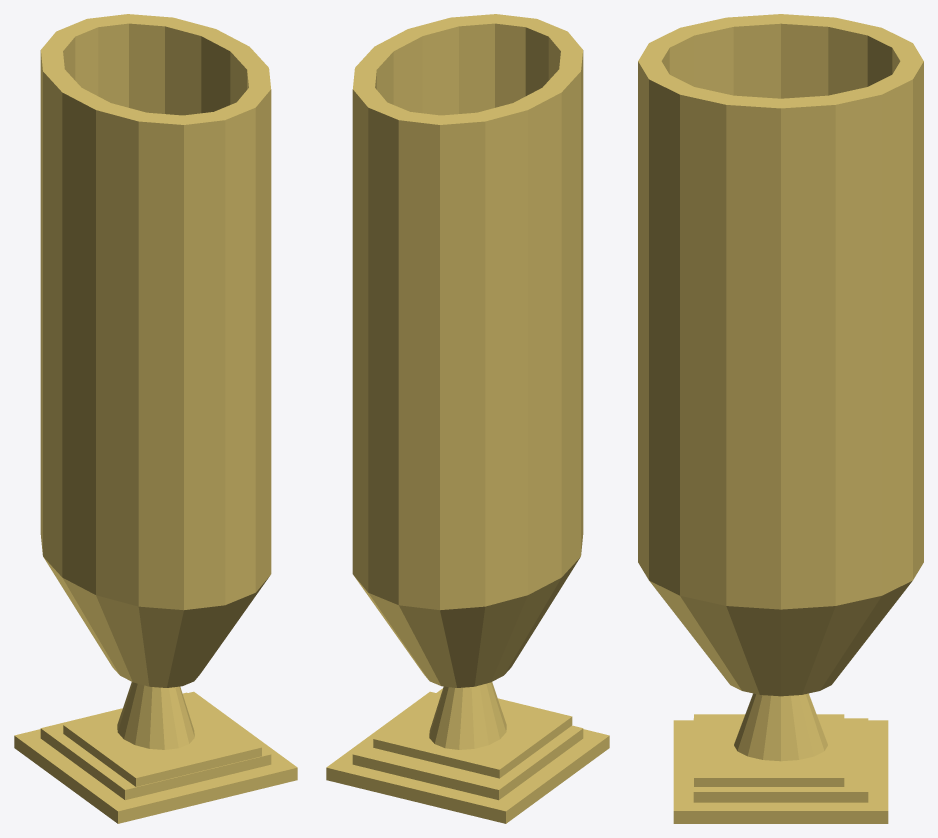
The model's file is Final_VaseToUnity.fbx.
3 views of the same model, side by side, from view 1: azimuth 30°, elevation 25°; view 2: azimuth 150°, elevation 25°; view 3: azimuth 270°, elevation 25° (orthographic). The views are drawn at different scales.
Visible parts, largest first — view 1: Cube1; view 2: Cube1; view 3: Cube1.
Boxes of the visible parts, box(x1,y1,x2,y2) form: Cube1: box(14, 14, 297, 823); Cube1: box(326, 14, 609, 823); Cube1: box(638, 14, 923, 823).
Size of the model in its own units: 15.64 by 55.39 by 20.
1 material, 1 textured.
